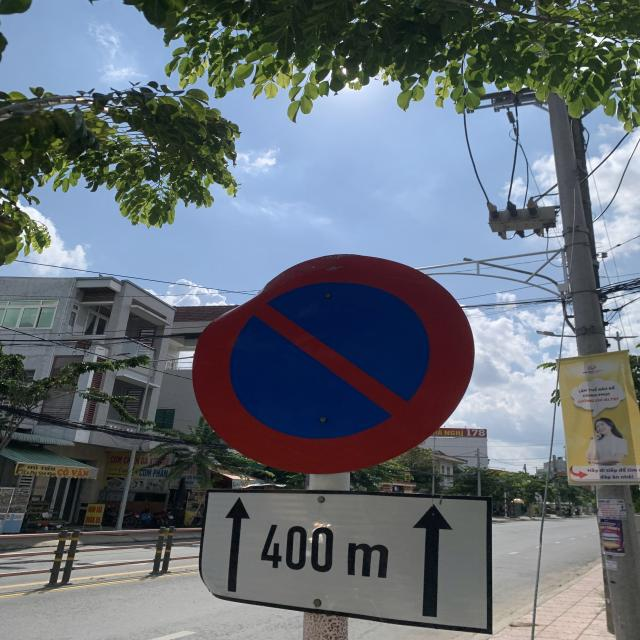Cam_Dau_Xe: (190, 254, 482, 472)
